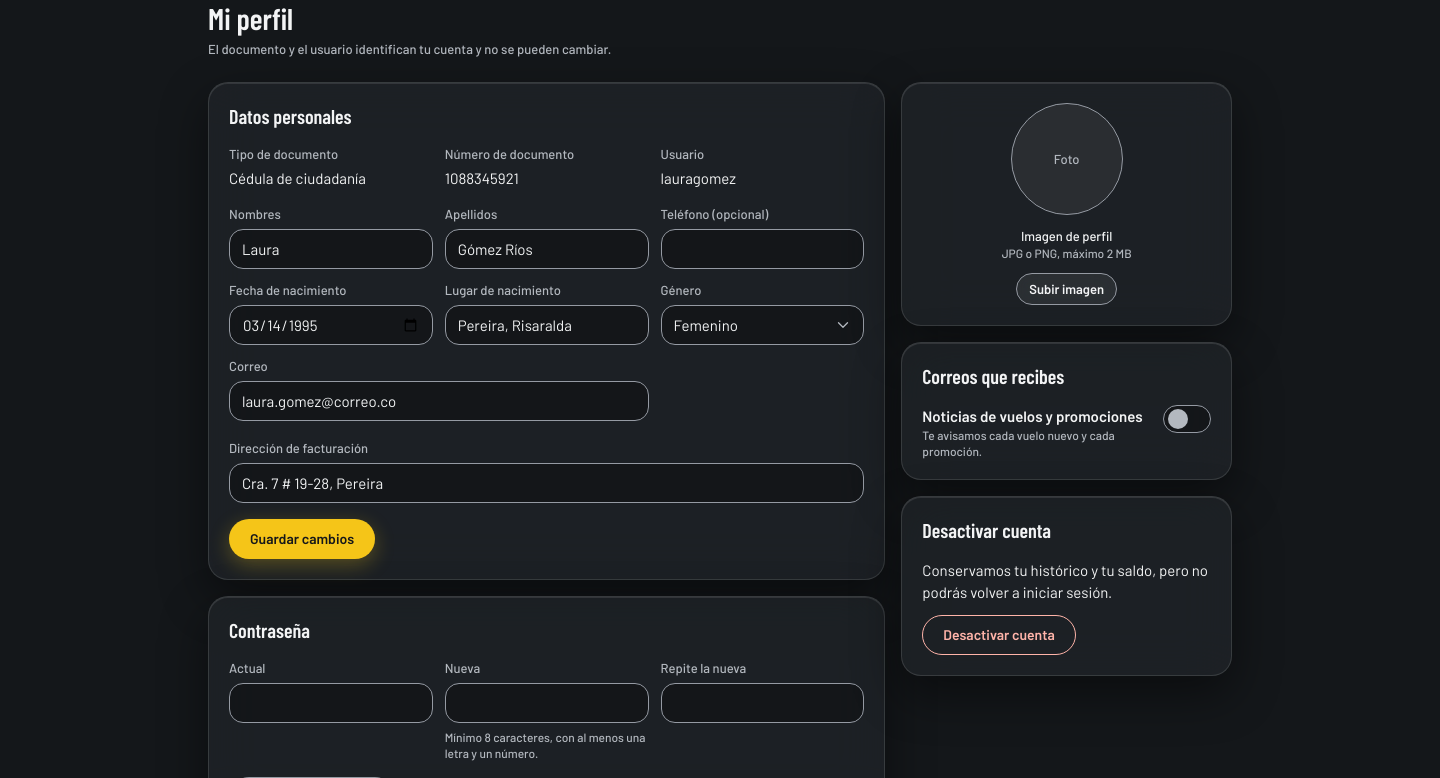
Test: S05 · Desactivar cuenta (HU-09) › pide confirmación y advierte que no se podrá volver a iniciar sesión
Click the button "Desactivar cuenta".
click(999, 635)  # box x1=922 y1=615 x2=1076 y2=655
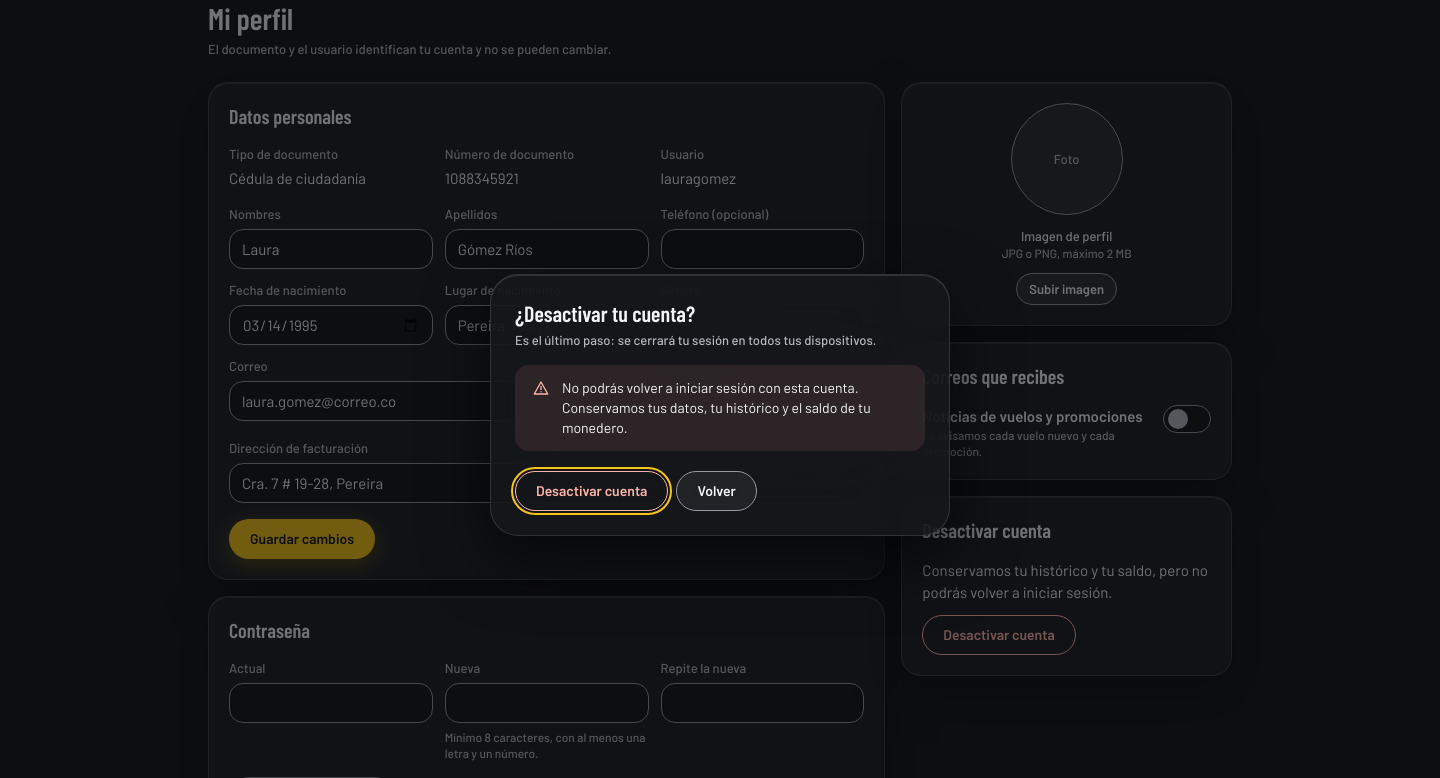
expect the heading "¿Desactivar tu cuenta?" is shown: met, box x1=515 y1=300 x2=695 y2=326
expect the text "No podrás volver a iniciar sesión" is shown: met, box x1=562 y1=379 x2=871 y2=436
